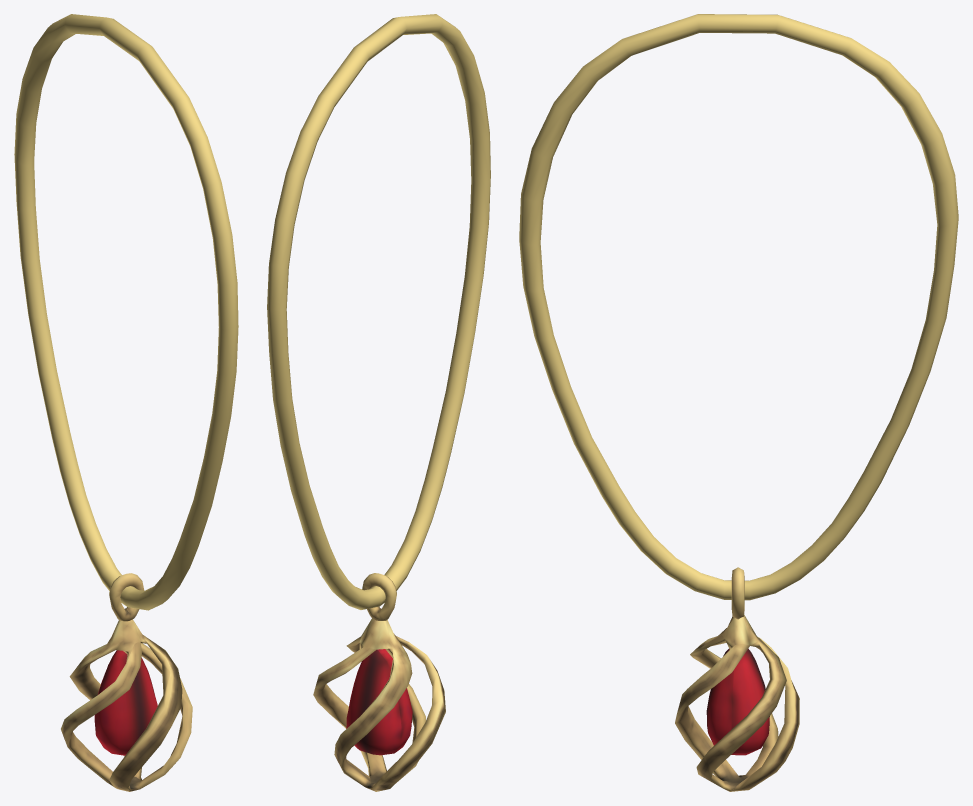
Rendered from SM_Necklace_B_Gold.fbx.
3 views of the same model, side by side, from view 1: azimuth 30°, elevation 25°; view 2: azimuth 150°, elevation 25°; view 3: azimuth 270°, elevation 25° (orthographic). The views are drawn at different scales.
Parts seen in each view (by area): view 1: SM_Necklace_B_Gold_LOD0; view 2: SM_Necklace_B_Gold_LOD0; view 3: SM_Necklace_B_Gold_LOD0.
Part boxes in pixels (x1=…): SM_Necklace_B_Gold_LOD0: x1=14, y1=14, x2=238, y2=791; SM_Necklace_B_Gold_LOD0: x1=267, y1=14, x2=490, y2=791; SM_Necklace_B_Gold_LOD0: x1=519, y1=14, x2=958, y2=791.
Size of the model in its own units: 2.93 by 9.34 by 18.16.
Materials: 2 (2 with a texture image).
